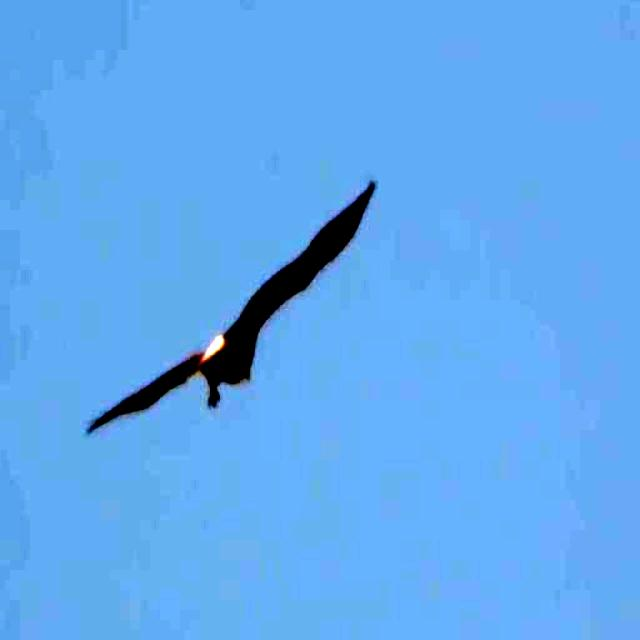airplane: (89, 185, 392, 449)
